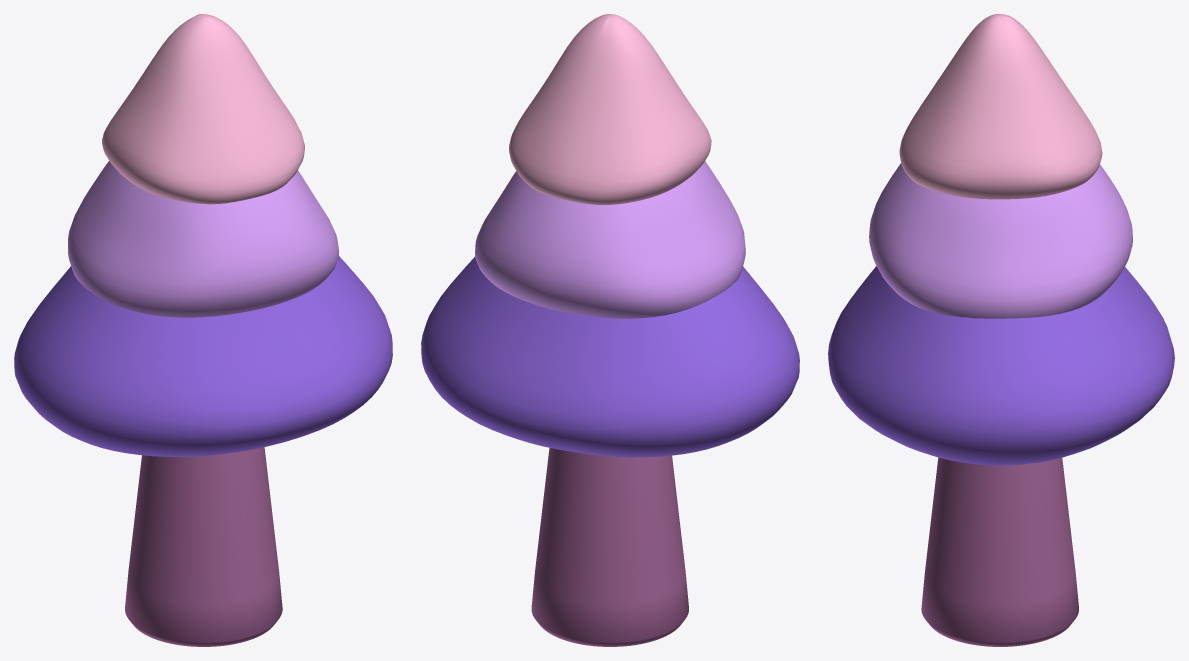
The picture shows the model from 3 angles, left to right: view 1: azimuth 30°, elevation 25°; view 2: azimuth 150°, elevation 25°; view 3: azimuth 270°, elevation 25°; orthographic projection.
Parts seen in each view (by area): view 1: Sphere.001, Cylinder; view 2: Sphere.001, Cylinder; view 3: Sphere.001, Cylinder.
Boxes of the visible parts, x1,y1,x2,y2 form: Sphere.001: (14, 14, 392, 456); Cylinder: (125, 447, 282, 646); Sphere.001: (421, 14, 799, 457); Cylinder: (531, 447, 688, 646); Sphere.001: (828, 14, 1174, 465); Cylinder: (921, 457, 1078, 646).
Size of the model in its own units: 147 by 252 by 132.
